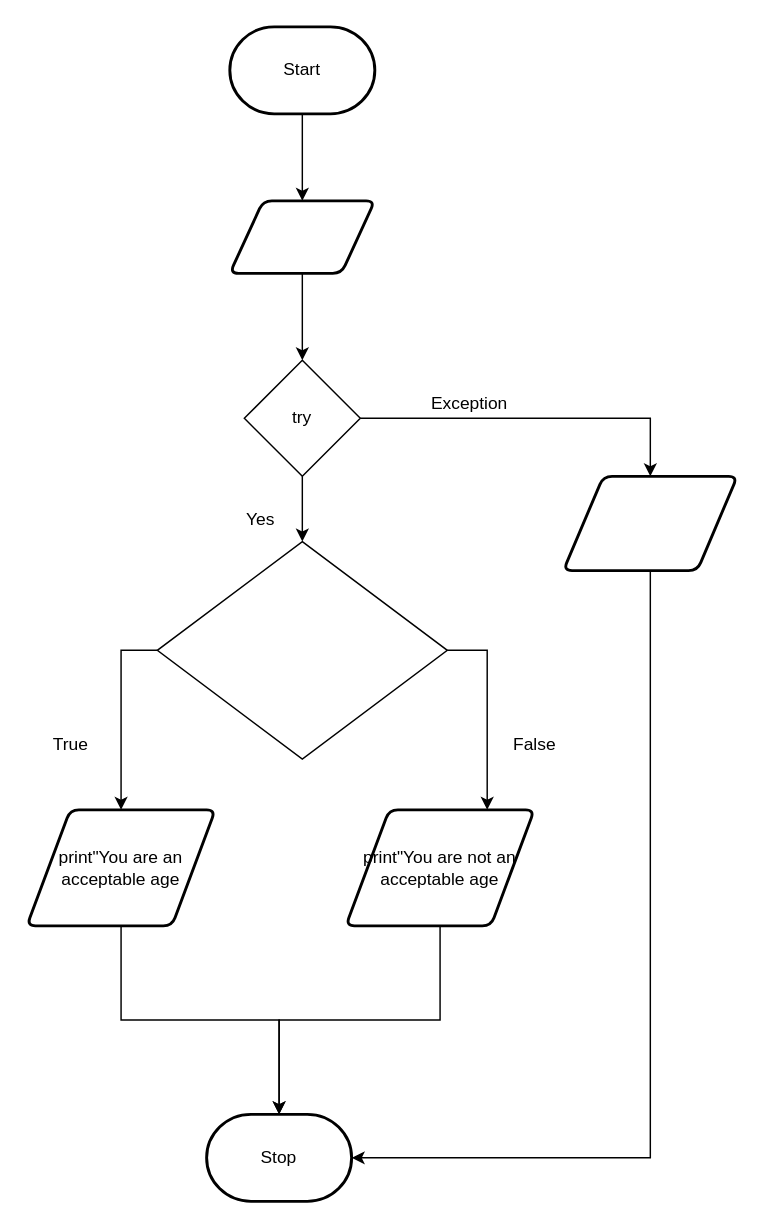
Some shapes in this 763 by 1227 pixel diagram are drawn without their labels. Each missing label, with the centre of its shape:
Get age: the point at 302,236
if age > 25 and age < 40: the point at 301,649
print"That is not an valid input: the point at 649,522
